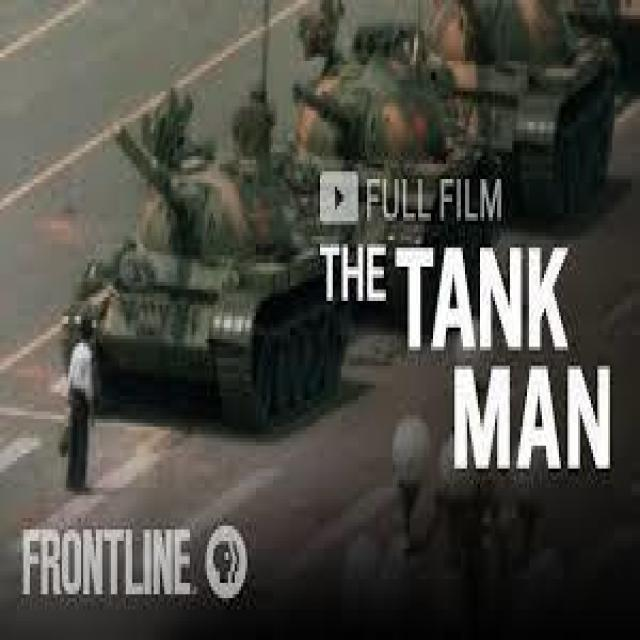MIL_MBT: (61, 99, 347, 427), (351, 50, 494, 297), (501, 19, 619, 194)
